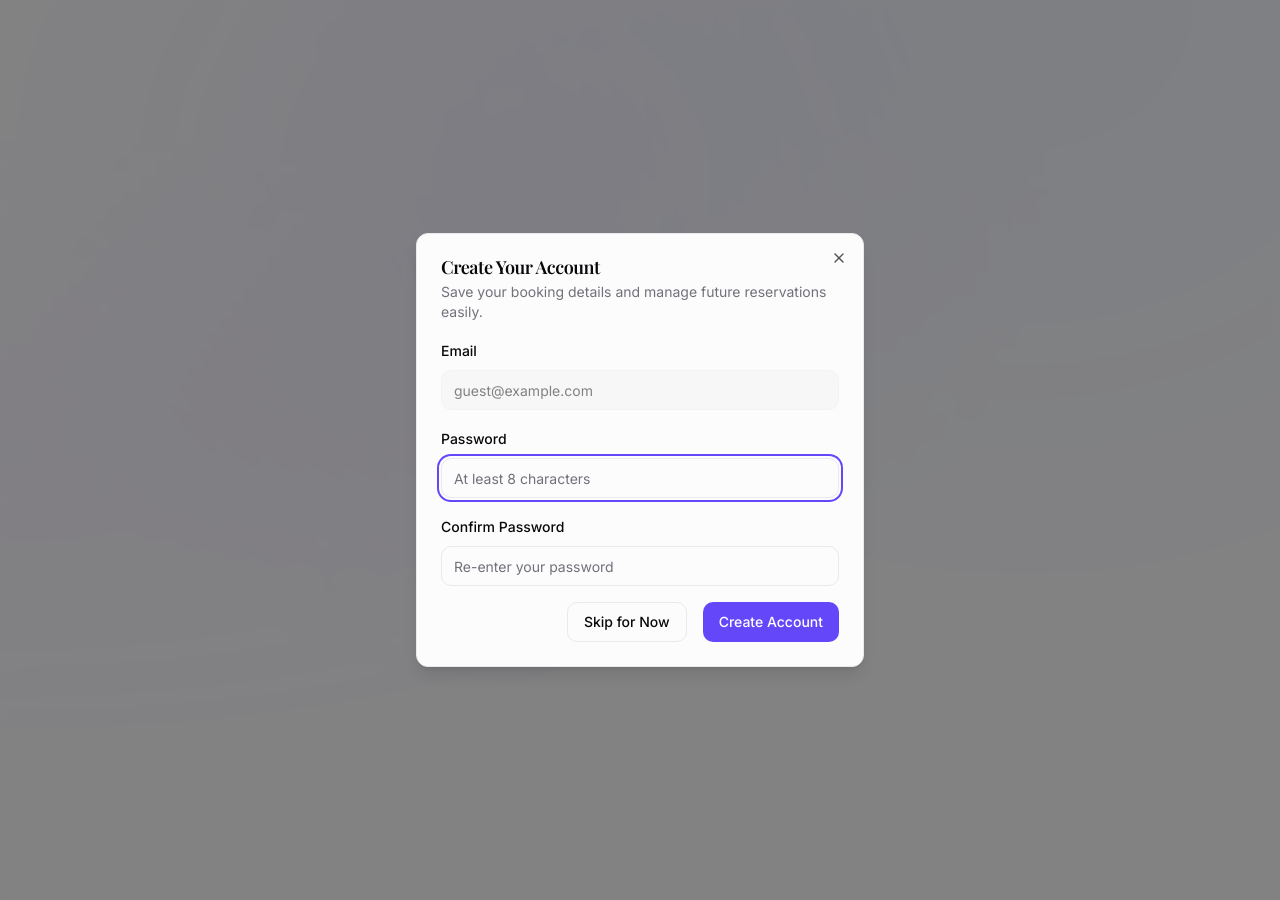
Test: CreateAccountDialog › should create account successfully
The width and height of the screenshot is (1280, 900).
Type "password123" into the password field labelled "Password" at (640, 478), box left=441, top=458, right=839, bottom=498
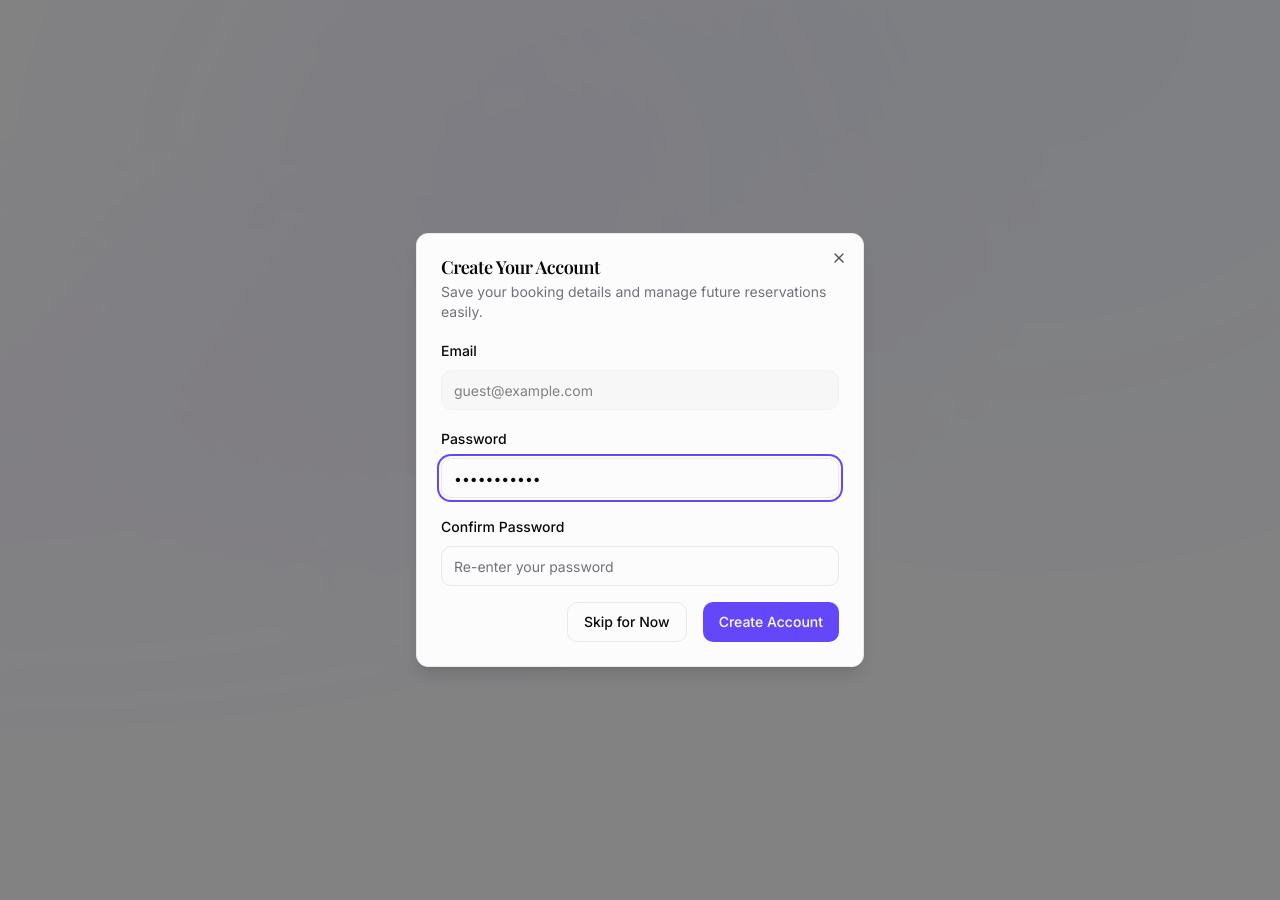
Type "password123" into the password field labelled "Confirm Password" at (640, 566), box left=441, top=546, right=839, bottom=586
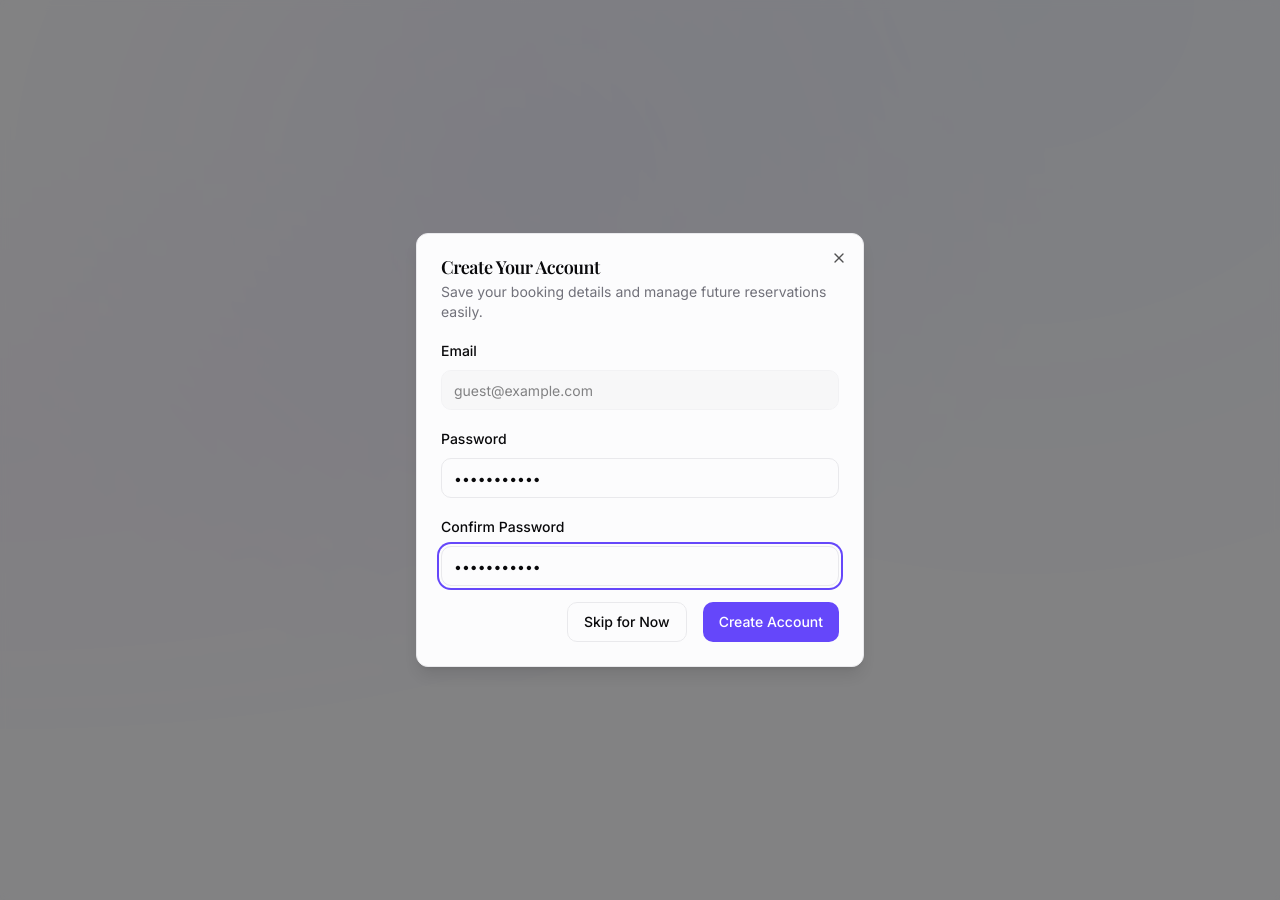
Click the button "Create Account" at (771, 622), box left=703, top=602, right=839, bottom=642
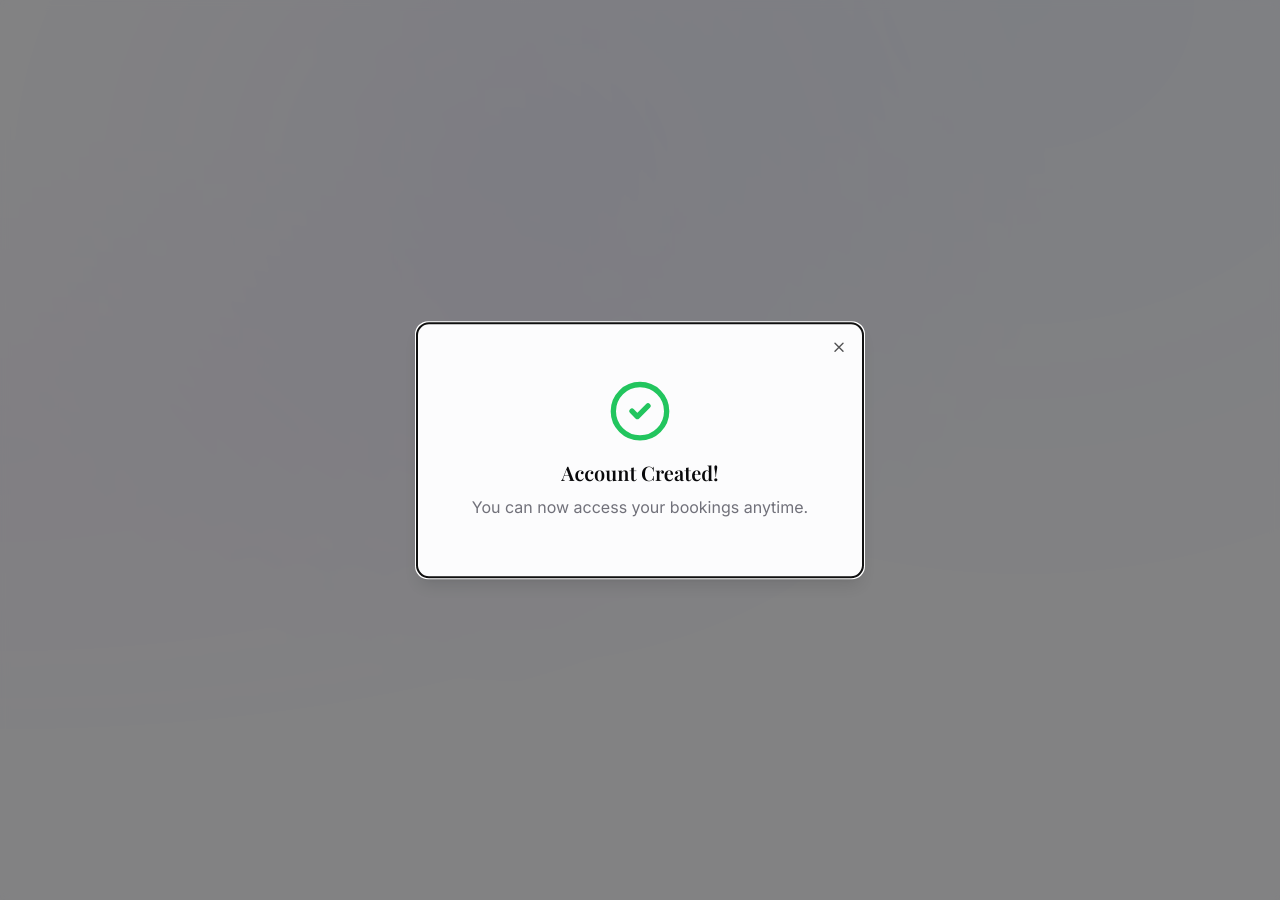
Expected: the heading "Account Created!" is shown, left=561, top=459, right=719, bottom=487
